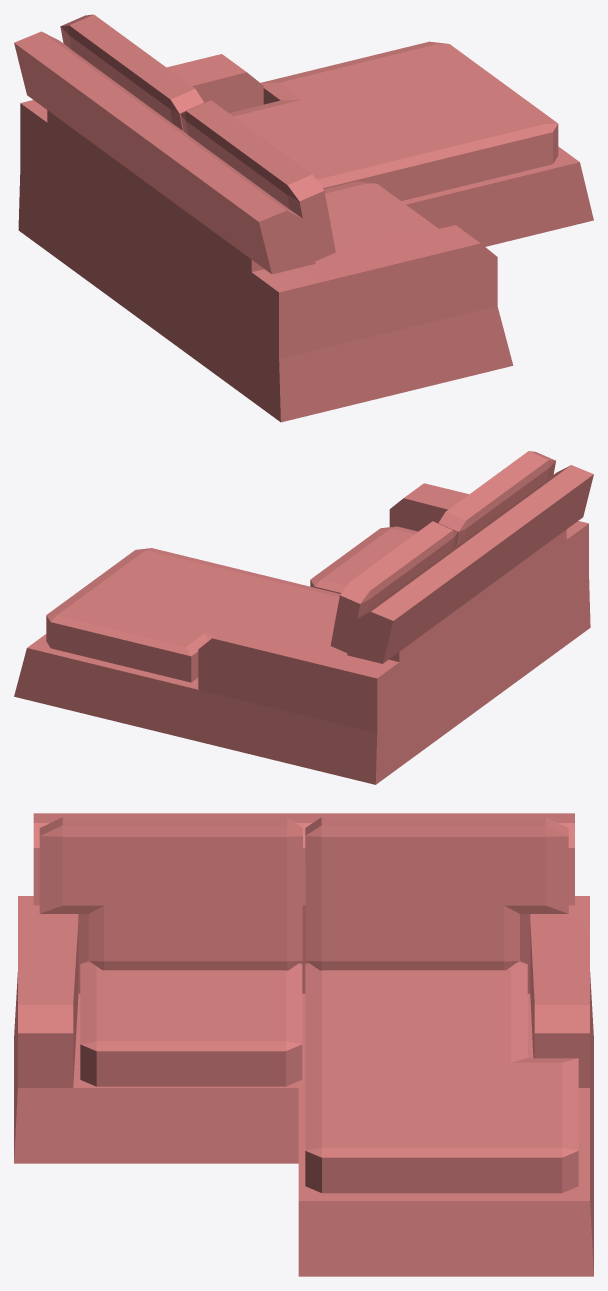
Rendered from SofaLong.glb.
3 views of the same model, one above another, from view 1: azimuth 30°, elevation 25°; view 2: azimuth 150°, elevation 25°; view 3: azimuth 270°, elevation 25° (orthographic). The views are drawn at different scales.
Parts seen in each view (by area): view 1: SofaLong_Cube.007; view 2: SofaLong_Cube.007; view 3: SofaLong_Cube.007.
Boxes of the visible parts, <box> form: SofaLong_Cube.007: <box>14,14,593,422</box>; SofaLong_Cube.007: <box>14,451,593,784</box>; SofaLong_Cube.007: <box>14,813,593,1276</box>.
Bounding box in the file's own units: 1.37 × 0.6276 × 1.36.
